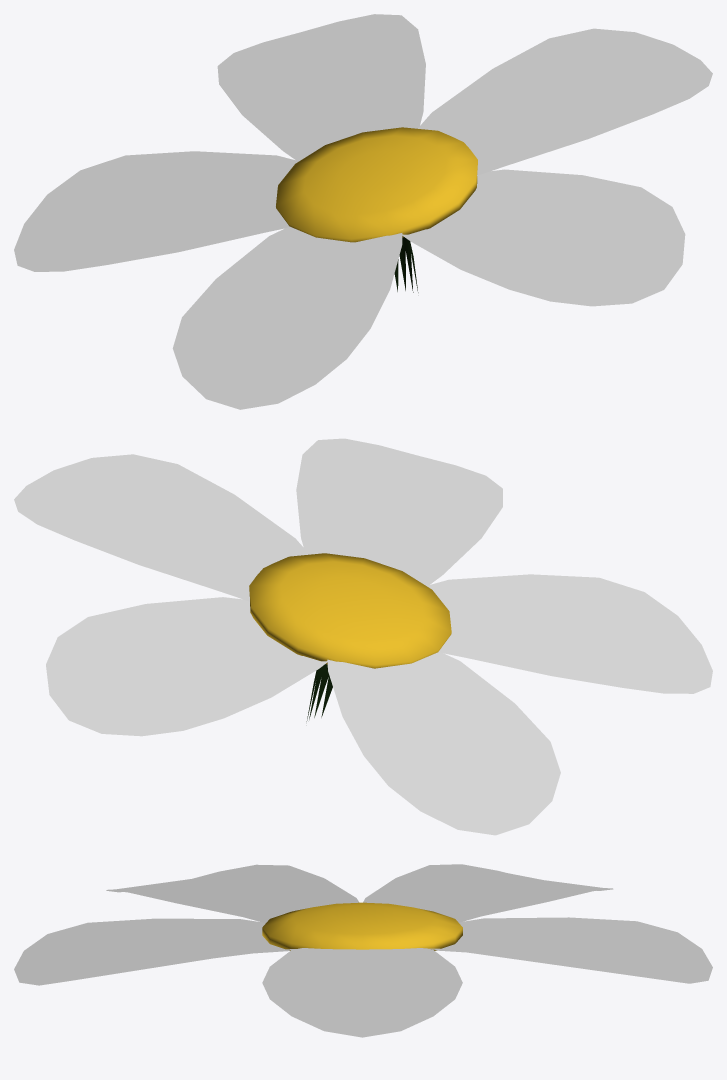
The picture shows the model from 3 angles, top to bottom: view 1: azimuth 30°, elevation 25°; view 2: azimuth 150°, elevation 25°; view 3: azimuth 270°, elevation 25°; orthographic projection. The views are drawn at different scales.
Parts seen in each view (by area): view 1: 1349c74e; view 2: 1349c74e; view 3: 1349c74e.
Part boxes in pixels (<box>): 1349c74e: <box>14,14,712,409</box>; 1349c74e: <box>14,438,712,835</box>; 1349c74e: <box>14,864,712,1037</box>.
Size of the model in its own units: 0.0809 by 0.0234 by 0.085.
